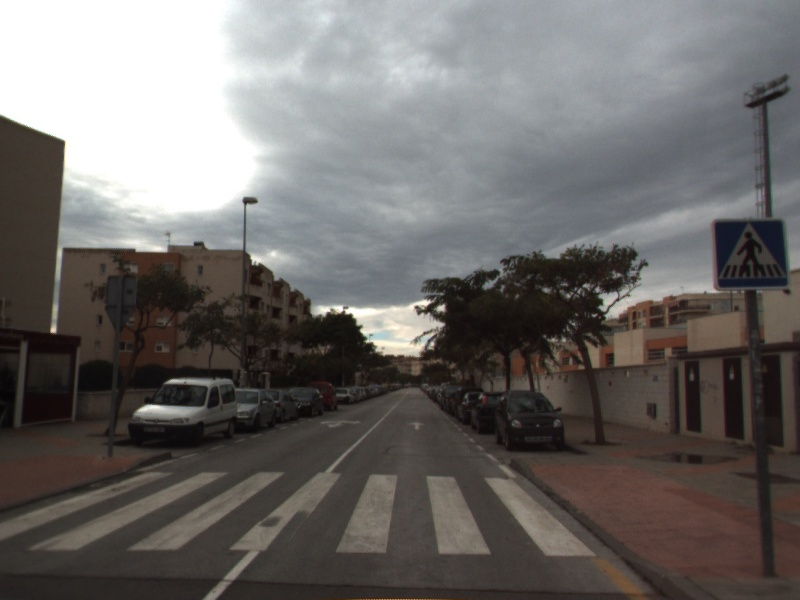STRAIGHT: (407, 419, 427, 431)
